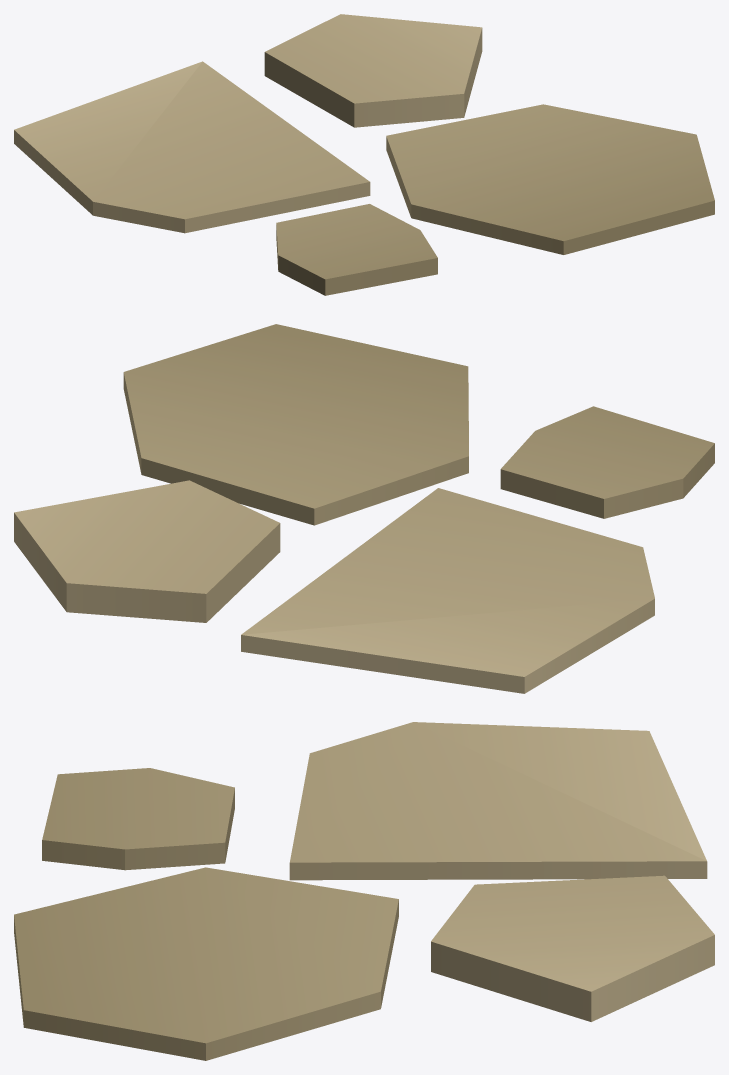
File: Road_Stone_S.gltf
The picture shows the model from 3 angles, top to bottom: view 1: azimuth 30°, elevation 25°; view 2: azimuth 150°, elevation 25°; view 3: azimuth 270°, elevation 25°; orthographic projection. The views are drawn at different scales.
Visible parts, largest first — view 1: Road_Piece_A.001, Road_Piece_D.001, Road_Piece_B.001, Road_Piece_C.001; view 2: Road_Piece_A.001, Road_Piece_D.001, Road_Piece_B.001, Road_Piece_C.001; view 3: Road_Piece_A.001, Road_Piece_D.001, Road_Piece_B.001, Road_Piece_C.001.
Part boxes in pixels (box(x1,y1,x2,y2)): Road_Piece_A.001: box(14, 61, 370, 233); Road_Piece_D.001: box(386, 104, 714, 254); Road_Piece_B.001: box(264, 14, 482, 127); Road_Piece_C.001: box(276, 204, 437, 295); Road_Piece_A.001: box(241, 488, 654, 693); Road_Piece_D.001: box(123, 324, 468, 525); Road_Piece_B.001: box(14, 480, 280, 622); Road_Piece_C.001: box(500, 406, 714, 518); Road_Piece_A.001: box(289, 722, 707, 880); Road_Piece_D.001: box(14, 867, 398, 1060); Road_Piece_B.001: box(431, 875, 714, 1021); Road_Piece_C.001: box(42, 768, 234, 870).
Size of the model in its own units: 2.9 by 0.1308 by 2.68.
1 material, 1 textured.
